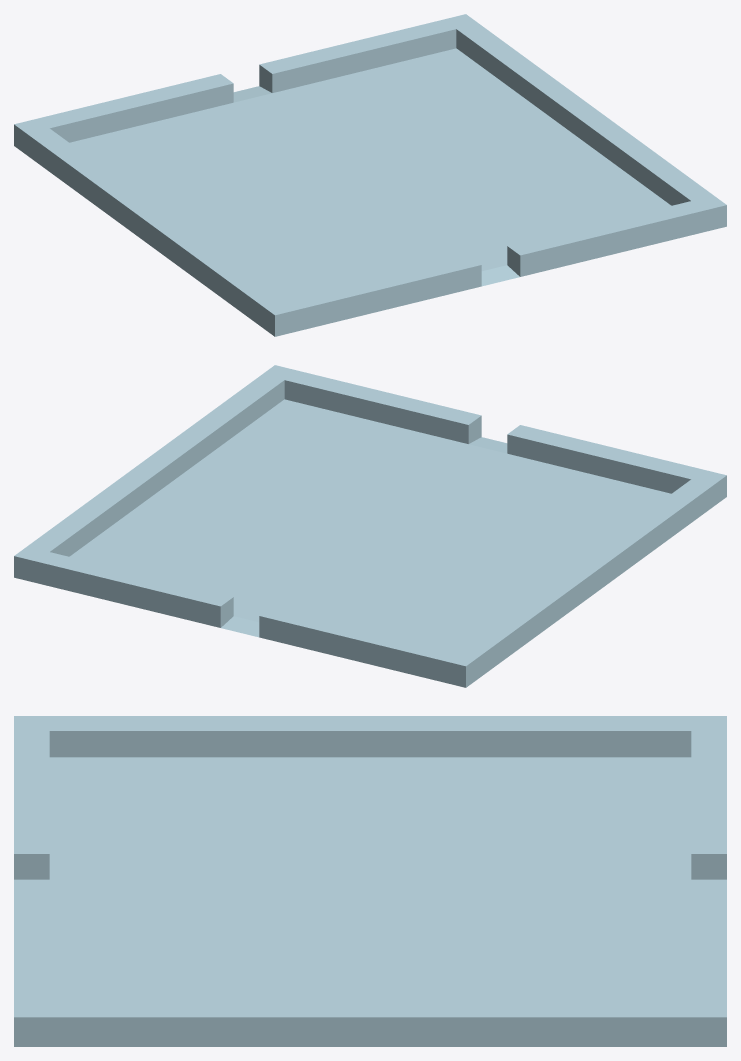
File: arena_1_blank.glb
3 views of the same model, one above another, from view 1: azimuth 30°, elevation 25°; view 2: azimuth 150°, elevation 25°; view 3: azimuth 270°, elevation 25° (orthographic). The views are drawn at different scales.
Visible parts, largest first — view 1: arena; view 2: arena; view 3: arena.
Boxes of the visible parts, x1,y1,x2,y2 form: arena: (14, 14, 726, 336); arena: (14, 365, 726, 687); arena: (14, 716, 726, 1046).
Size of the model in its own units: 200 by 9.12 by 200.
